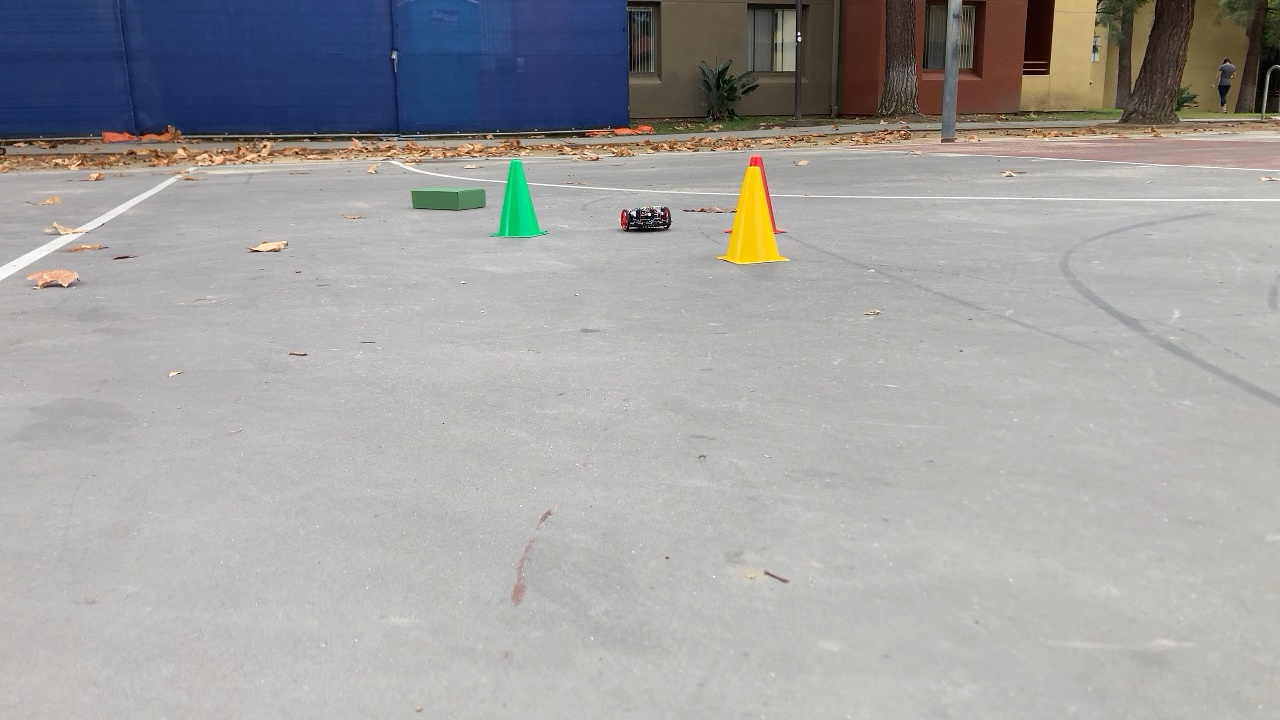green_cone: (489, 153, 550, 243)
robot: (610, 204, 677, 236)
yellow_cone: (719, 166, 782, 270)
